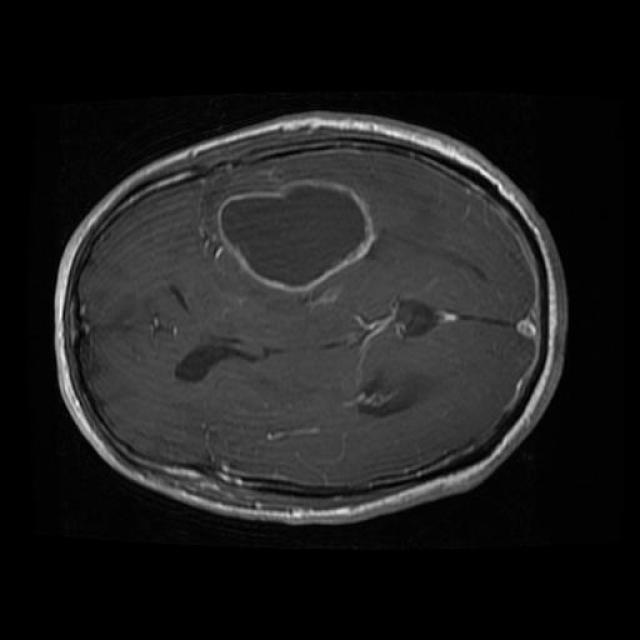Glioma: (218, 180, 374, 293)
